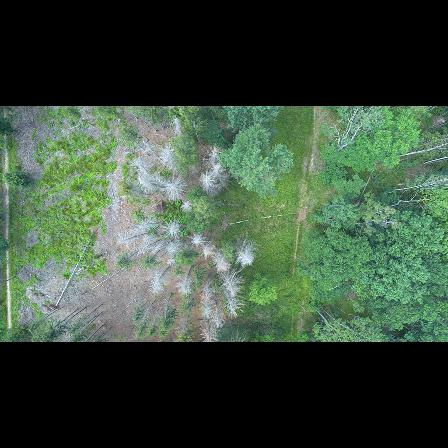Dead: (158, 177, 186, 199), (217, 269, 239, 297), (233, 240, 256, 265), (219, 294, 242, 319), (147, 240, 172, 260), (160, 145, 178, 172), (131, 157, 154, 178), (169, 116, 188, 141), (152, 269, 169, 295), (200, 285, 214, 316), (141, 141, 160, 163), (122, 245, 146, 262), (180, 266, 193, 296), (115, 233, 147, 245), (210, 252, 230, 270), (138, 178, 155, 196), (169, 246, 186, 264), (165, 220, 181, 239), (215, 300, 225, 328), (203, 317, 215, 340), (200, 242, 213, 261), (199, 174, 215, 189), (147, 236, 166, 248), (207, 144, 220, 161), (189, 233, 204, 247), (210, 162, 224, 175), (180, 199, 192, 213), (141, 222, 163, 226)
